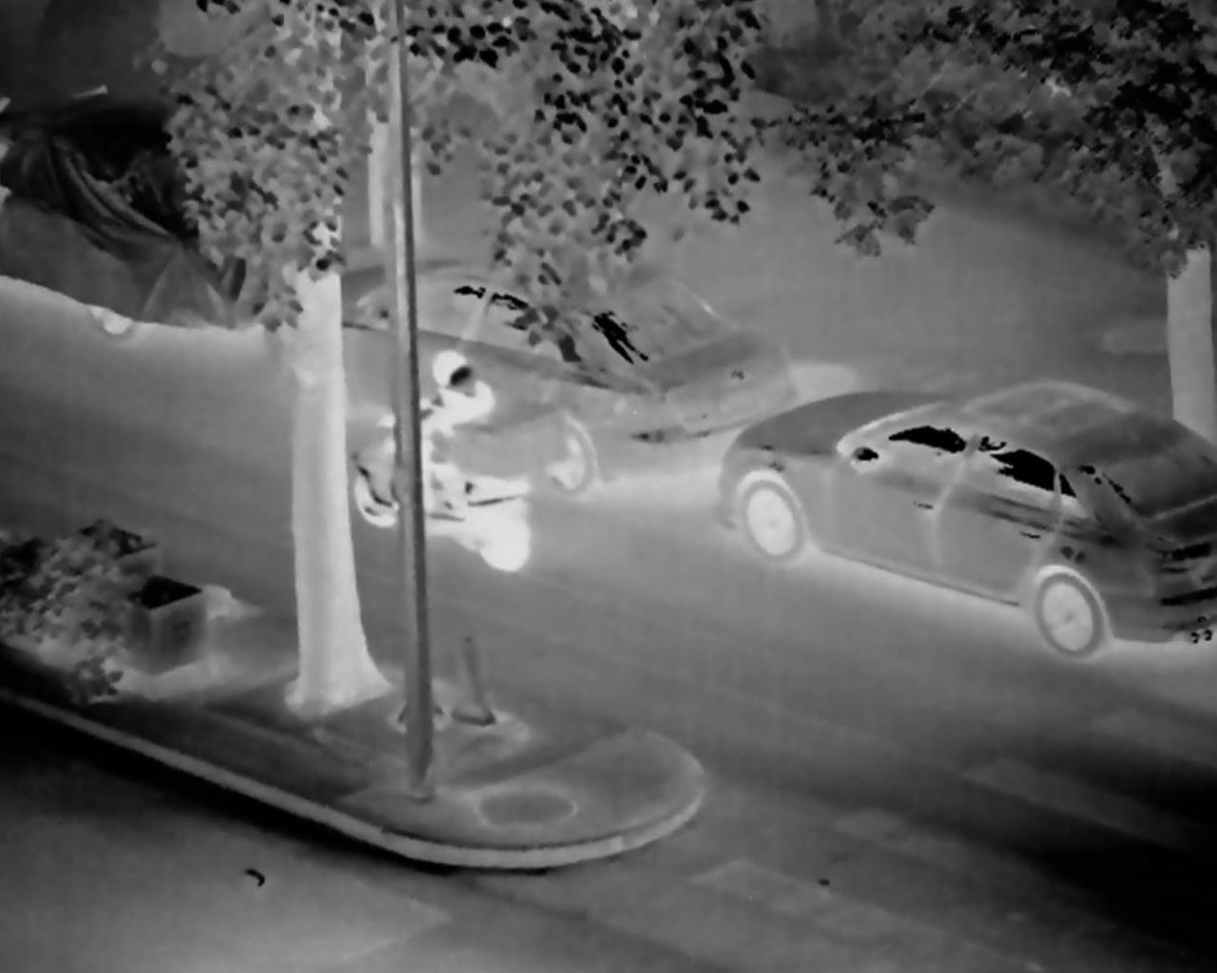person: (387, 345, 491, 529)
